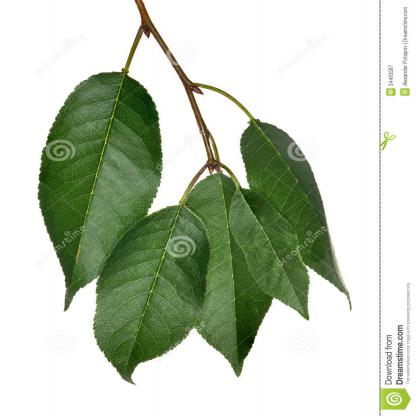cherry leaf: (34, 67, 169, 312), (171, 169, 290, 399), (231, 114, 360, 324), (91, 199, 218, 390)
